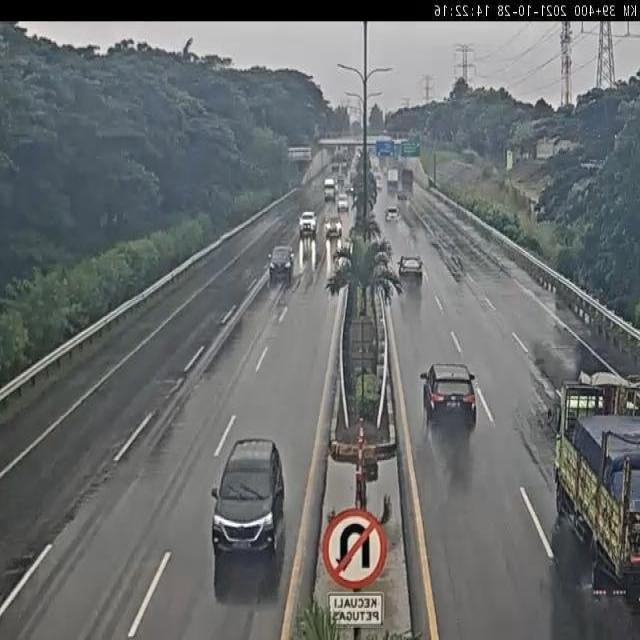Car: (210, 438, 286, 562), (418, 362, 479, 428), (267, 242, 295, 284), (398, 254, 424, 286), (299, 211, 317, 236), (325, 216, 343, 239), (384, 207, 400, 222), (337, 193, 349, 213), (397, 190, 407, 200), (344, 185, 354, 194)
Truck: (541, 369, 640, 598), (323, 176, 336, 202), (401, 168, 414, 189), (387, 168, 398, 188)
